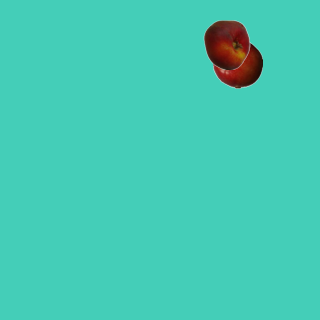Apple Braeburn: (212, 38, 262, 88)
Nectarine Flat: (201, 19, 251, 69)
